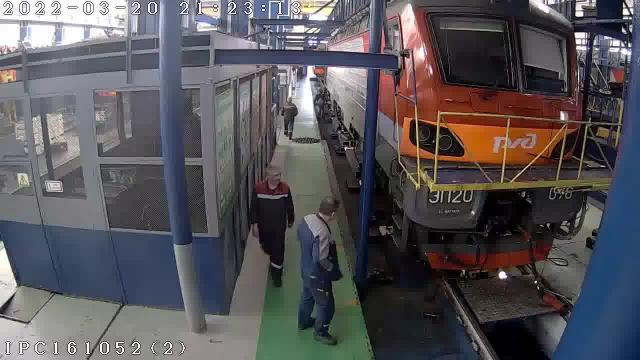person: (297, 196, 342, 344), (250, 166, 294, 286), (281, 96, 298, 139)
train: (376, 0, 586, 275)
